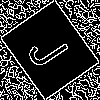J: (25, 25, 79, 72)
